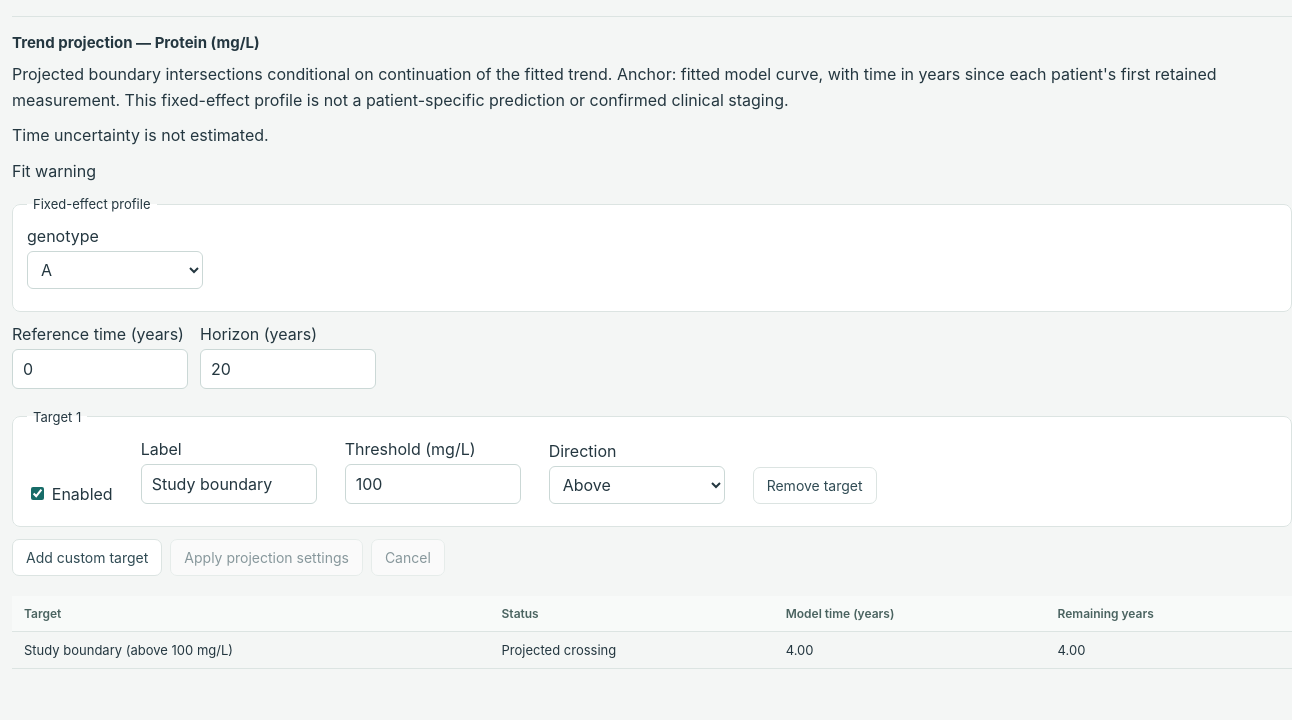
Test case: uses fitted category choices and recomputes a nonreference profile without refitting
The image size is (1292, 720).
Select "B" in the dropdown named "Profile genotype" at (115,270), box [27,251,203,289]
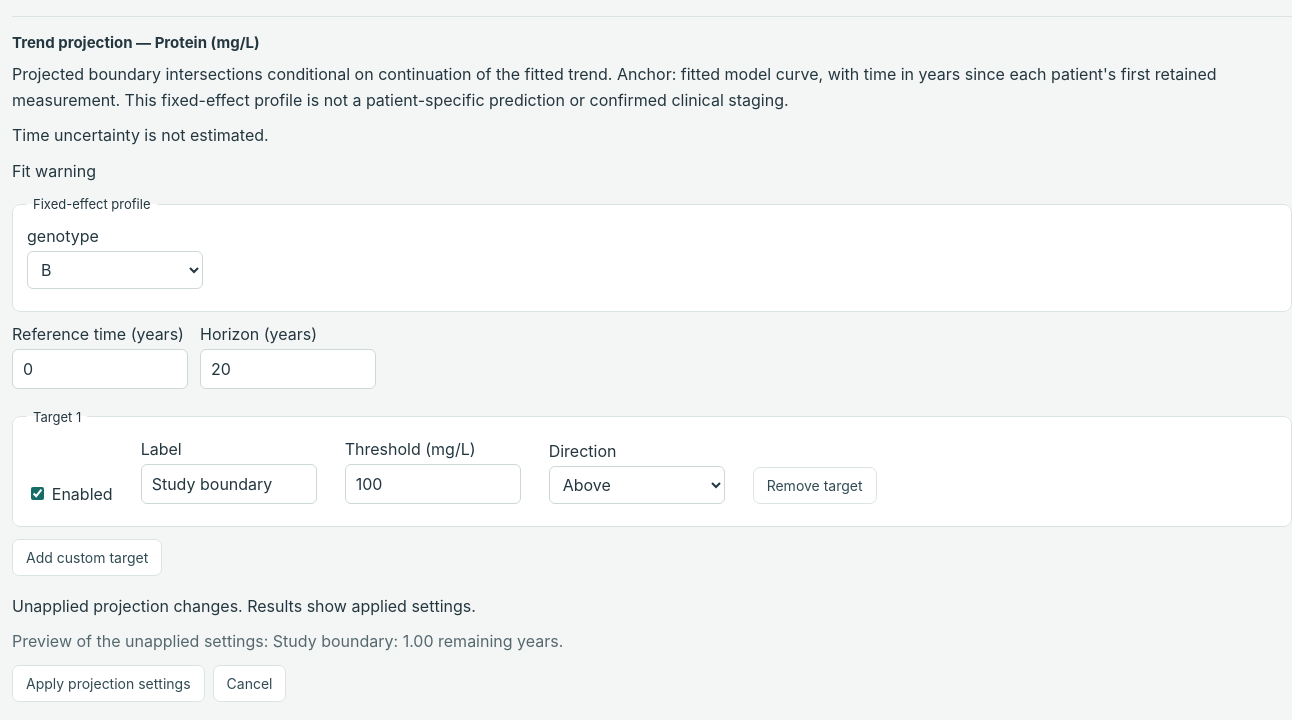
Click the button "Apply projection settings".
click(108, 684)  # box [12,665,205,702]
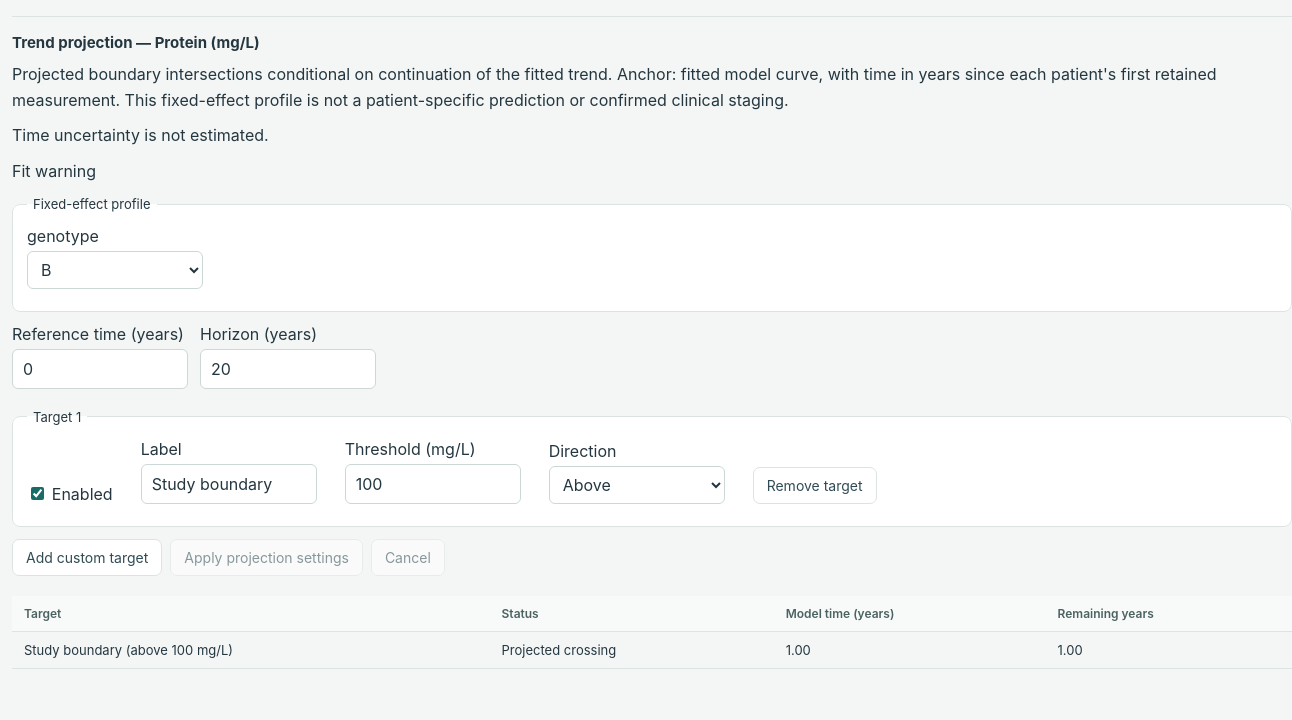
Now the table shows "1.00", box [786,642,811,658]
